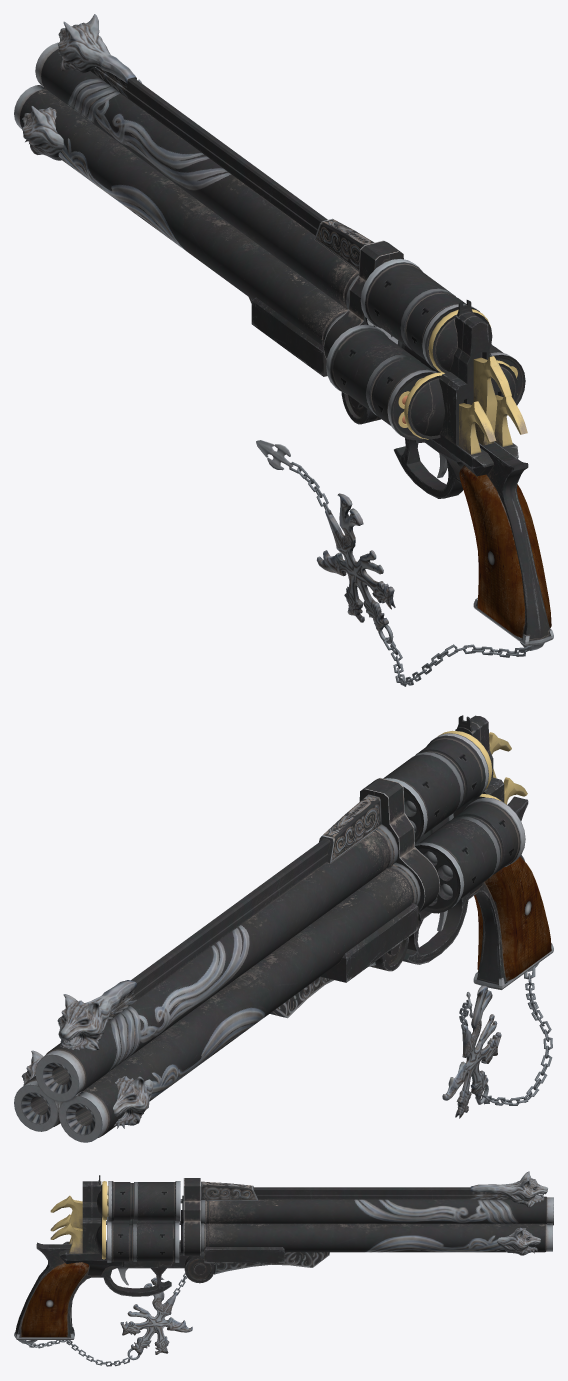
The model's file is CerberusMaterials.gltf.
The picture shows the model from 3 angles, top to bottom: view 1: azimuth 30°, elevation 25°; view 2: azimuth 150°, elevation 25°; view 3: azimuth 270°, elevation 25°; orthographic projection. The views are drawn at different scales.
Parts seen in each view (by area): view 1: Cerberus00_Fixed; view 2: Cerberus00_Fixed; view 3: Cerberus00_Fixed.
Part boxes in pixels (<box>): Cerberus00_Fixed: <box>14,14,553,686</box>; Cerberus00_Fixed: <box>14,715,553,1142</box>; Cerberus00_Fixed: <box>14,1171,553,1366</box>.
Size of the model in its own units: 0.3251 by 0.6599 by 1.56.
Materials: 1 (1 with a texture image).
